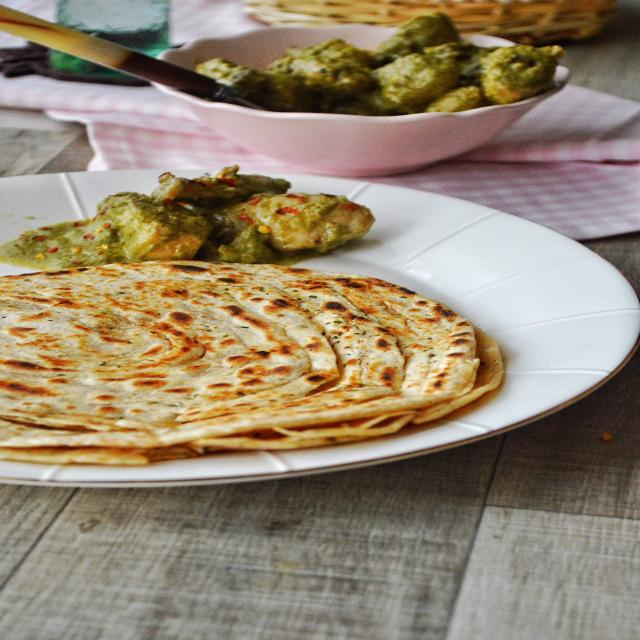ROTI: (1, 263, 502, 453)
